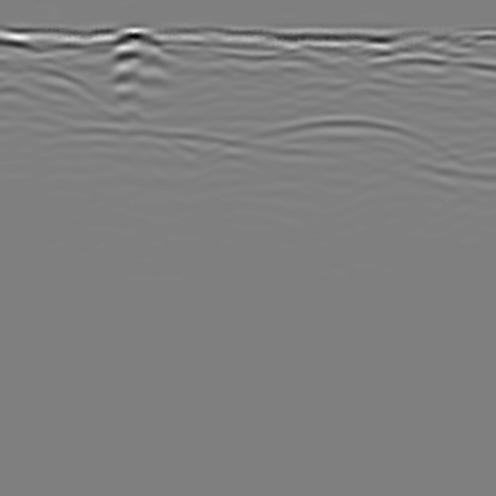hyperbola: (224, 96, 471, 212)
